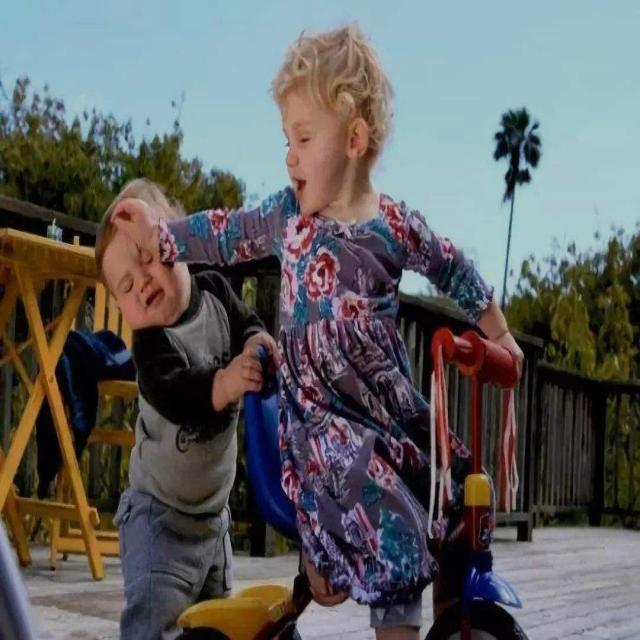fight: (97, 16, 525, 640)
